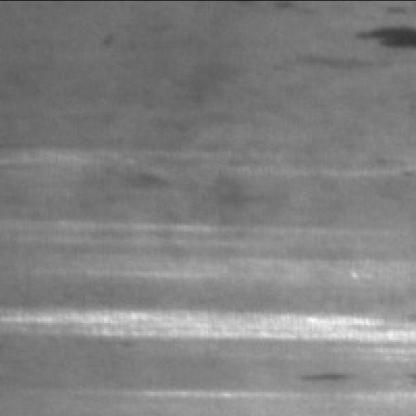inclusion: (349, 23, 414, 58)
scratches: (63, 231, 398, 293), (2, 310, 412, 346)
